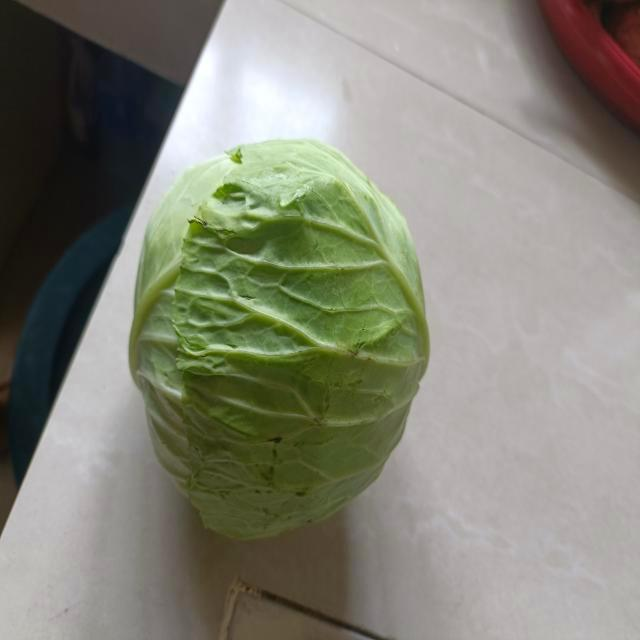cabbage: (125, 129, 432, 546)
